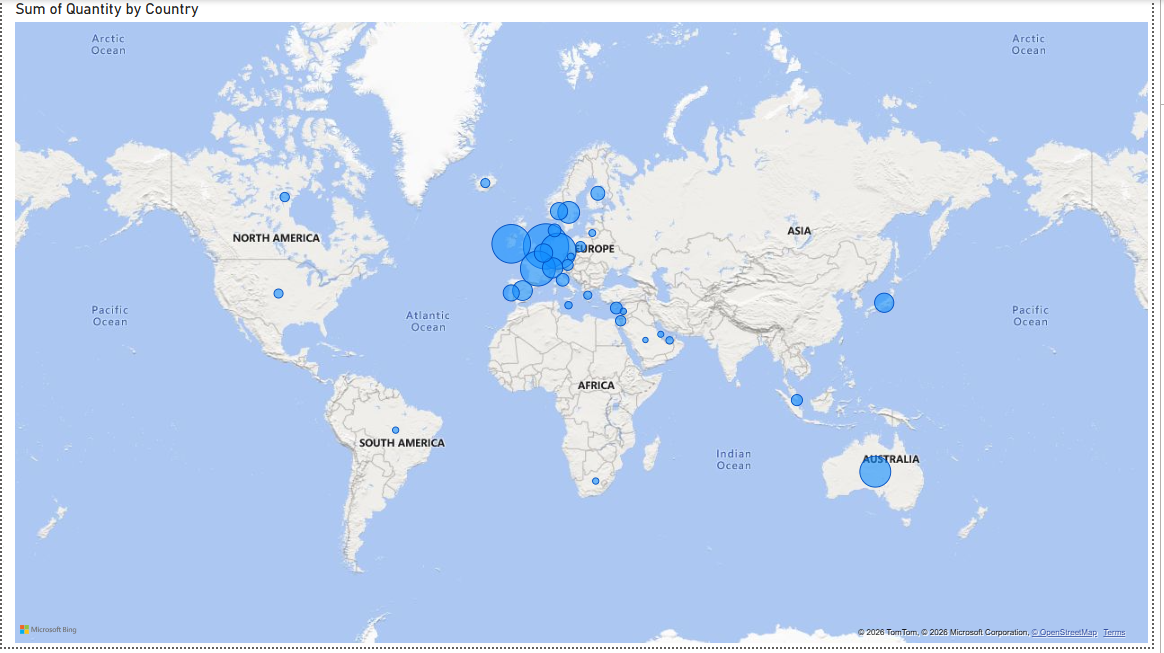

The page's visual inventory and layout, read from the dashboard file:
{"tool":"powerbi","page":{"name":"Q 4","canvas":[1280,720],"ordinal":3},"visuals":[{"type":"map","fields":{"Category":["Online Retail.Country"],"Size":["Sum(Online Retail.Quantity)"]},"box":[9.6,0,1270.7,720.4],"z":0}]}

Visuals, with their boxes in screenshot pixels (x1, y1, x2, y2), scaled from the page's 1280x720 canvas onto the 1164x653 screenshot:
map - Online Retail.Country x Sum(Online Retail.Quantity): bbox=(9, 0, 1163, 652)
